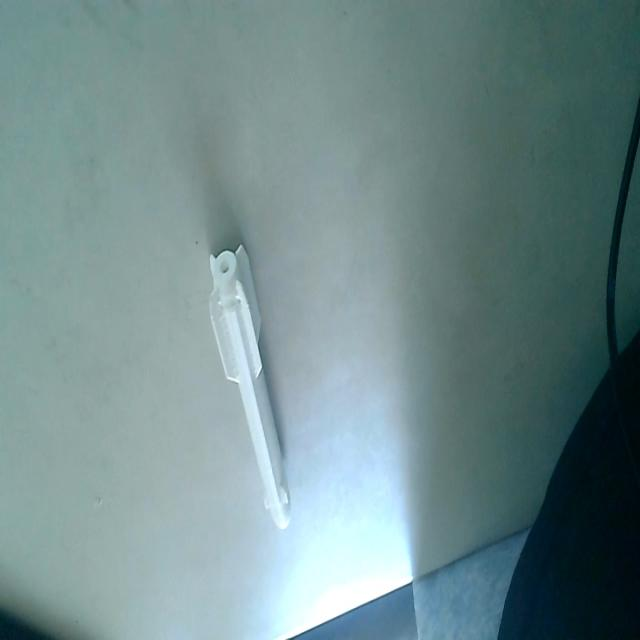Rocket: (205, 240, 293, 533)
